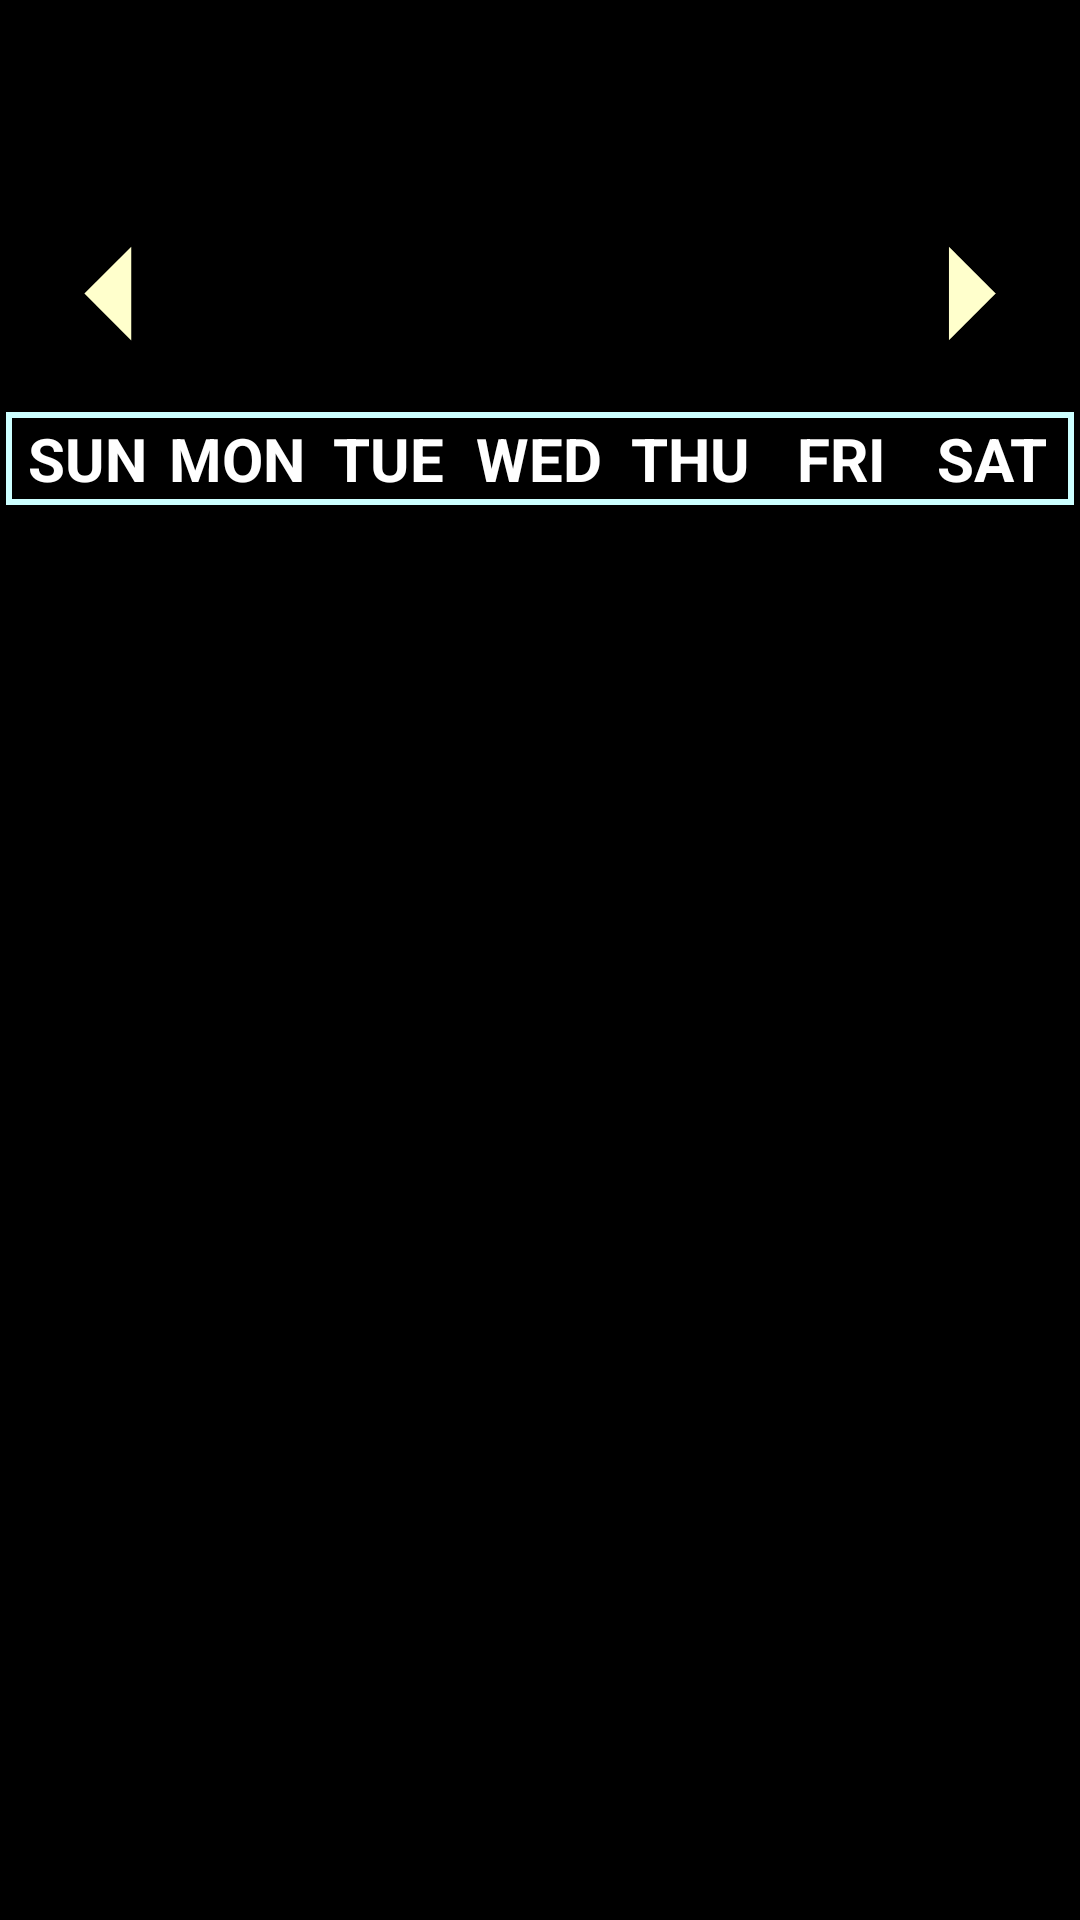

Named icons in this screenshot (1080×1920) and their bounding boxes, (x1, y1, x2, y2):
next month: (949, 247, 996, 340)
prev month: (84, 247, 132, 340)
